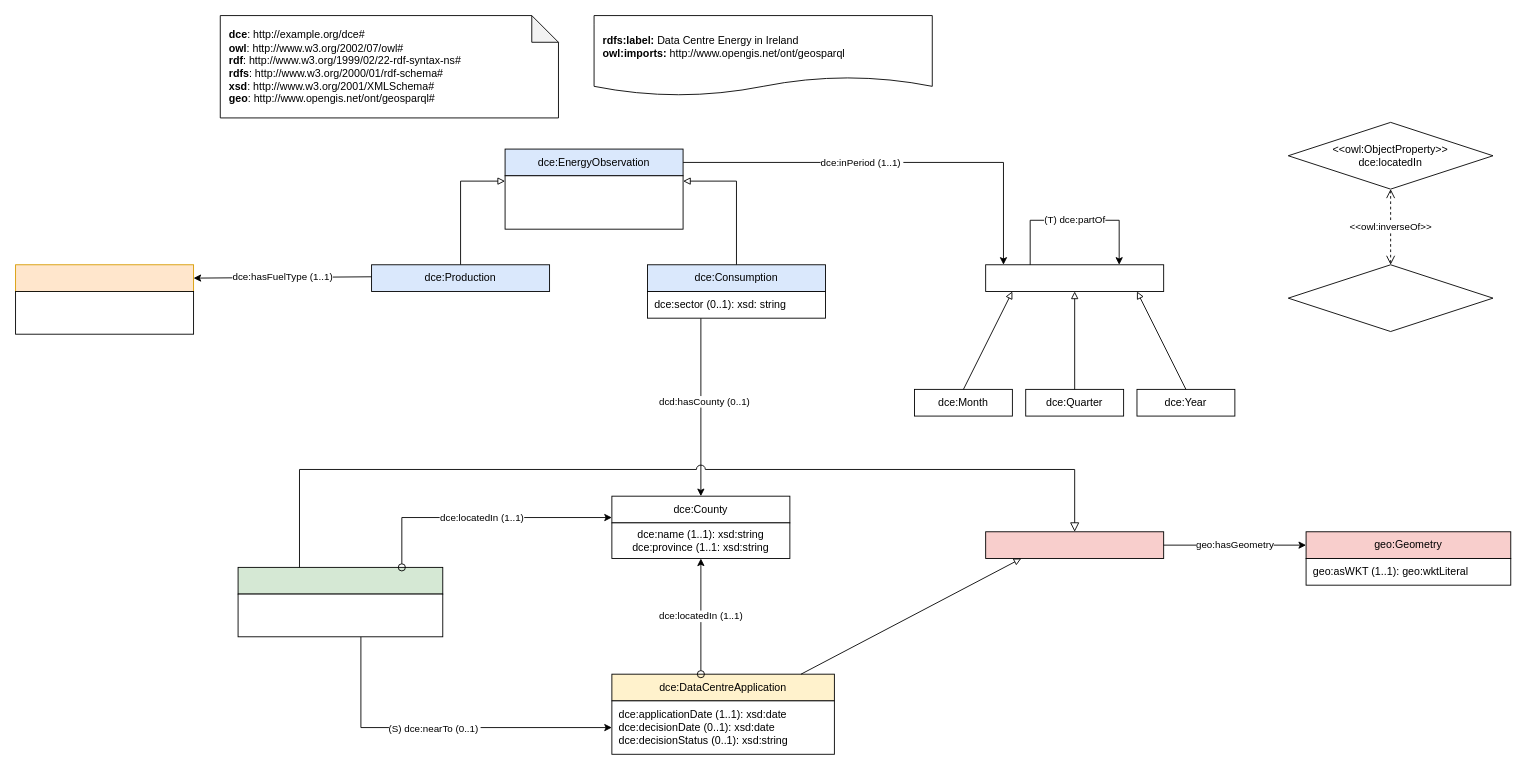
The diagram is 1526 pixels wide and 770 high, and some of its shapes have lost their labels. Here are the shapes that lost their labels. From the top down, the centre of each, then its label:
(x=593, y=202): dce:value (1..1): xsd:float dce:unit (1..1): xsd: string
(x=104, y=277): dce:FuelSource
(x=1074, y=277): dce:TimePeriod
(x=104, y=312): dce:fuelName (1..1): xsd:string dce:renewable (1..1): xsd:boolean
(x=1390, y=298): <<owl:ObjectProperty>> dce:locationOf
(x=1074, y=544): geo:Feature
(x=340, y=580): dce:WindFarm
(x=340, y=615): dce:exportCapacityMW (1..1): xsd:float dce:connectionDate (1..1): xsd:date
